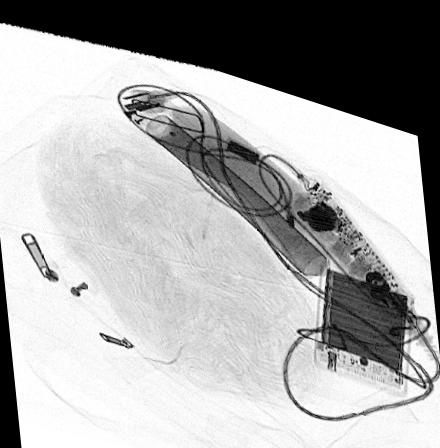Powerbank: (313, 243, 414, 372)
